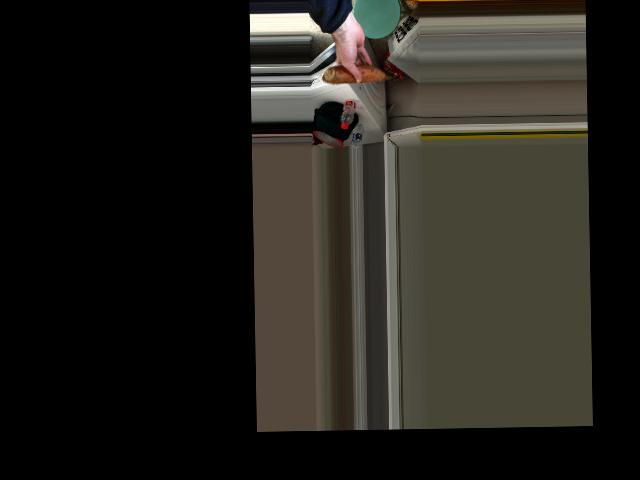sweet_potato: (328, 64, 388, 83)
